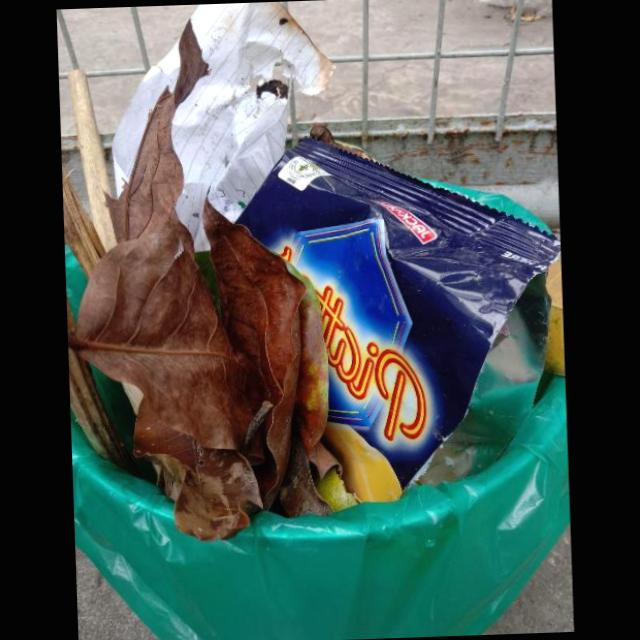bao_bi_thuc_pham: (235, 136, 560, 502)
giay: (109, 1, 332, 248)
la_cay: (67, 20, 328, 542)
